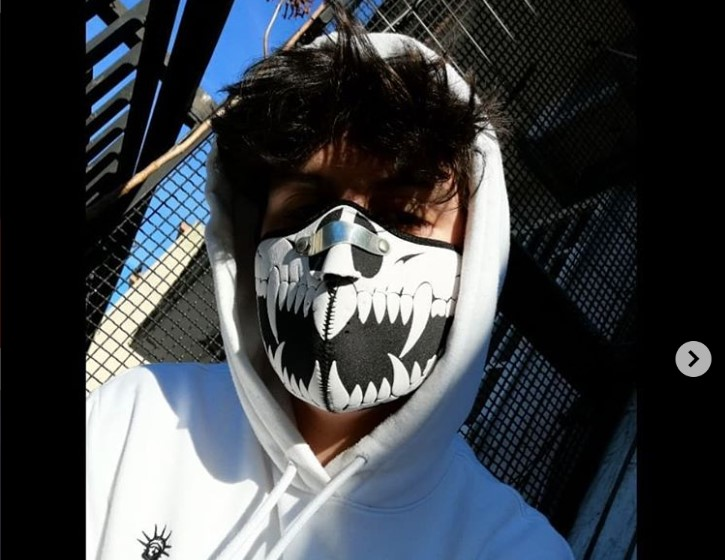face_with_mask: (214, 43, 503, 412)
